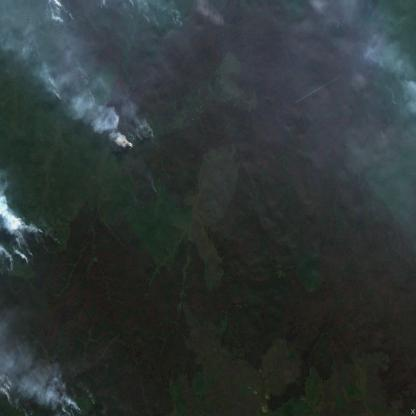fire: (43, 0, 146, 157), (0, 207, 70, 279), (0, 382, 84, 416)
